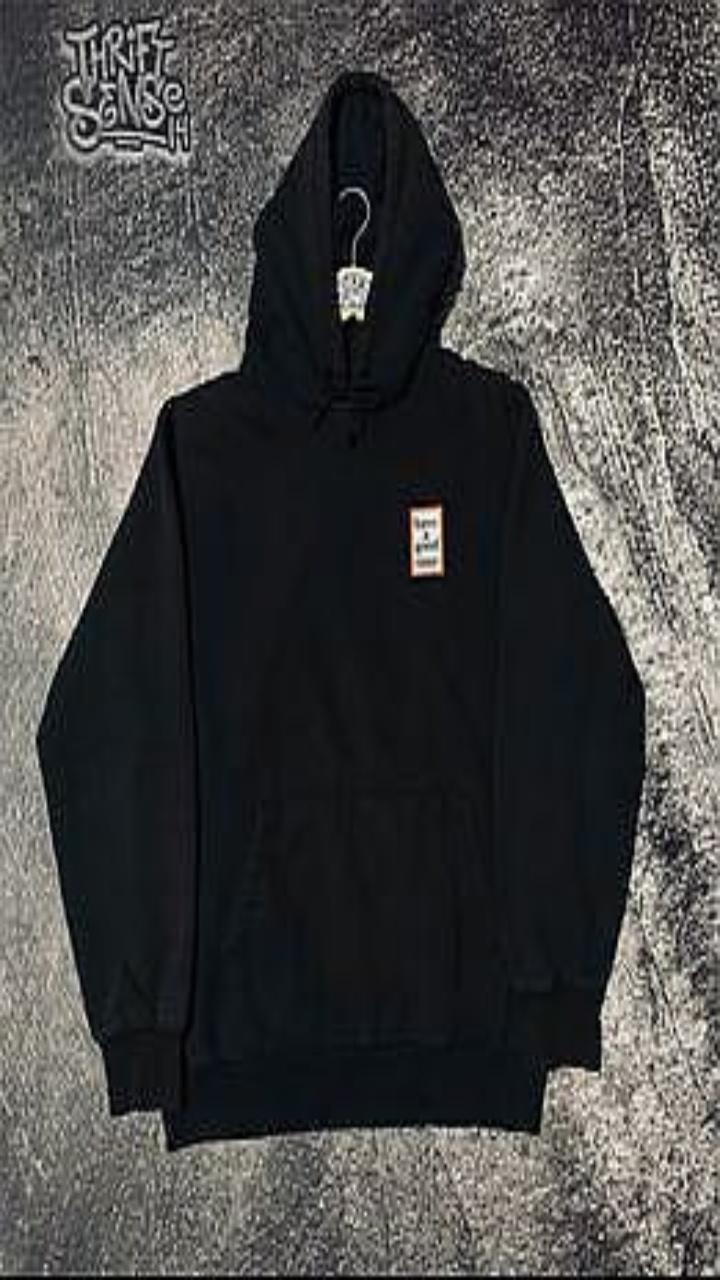Hoodie: (37, 72, 643, 1148)
